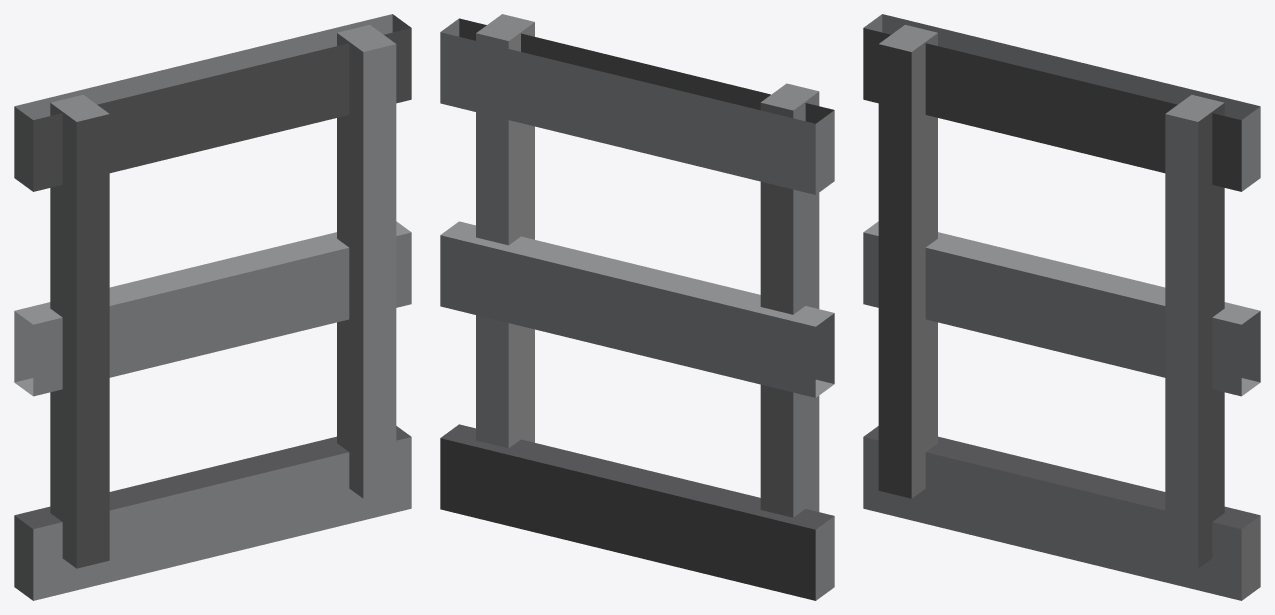
The picture shows the model from 3 angles, left to right: view 1: azimuth 30°, elevation 25°; view 2: azimuth 150°, elevation 25°; view 3: azimuth 330°, elevation 25°; orthographic projection.
Size of the model in its own units: 0.4531 by 0.5516 by 0.0686.
